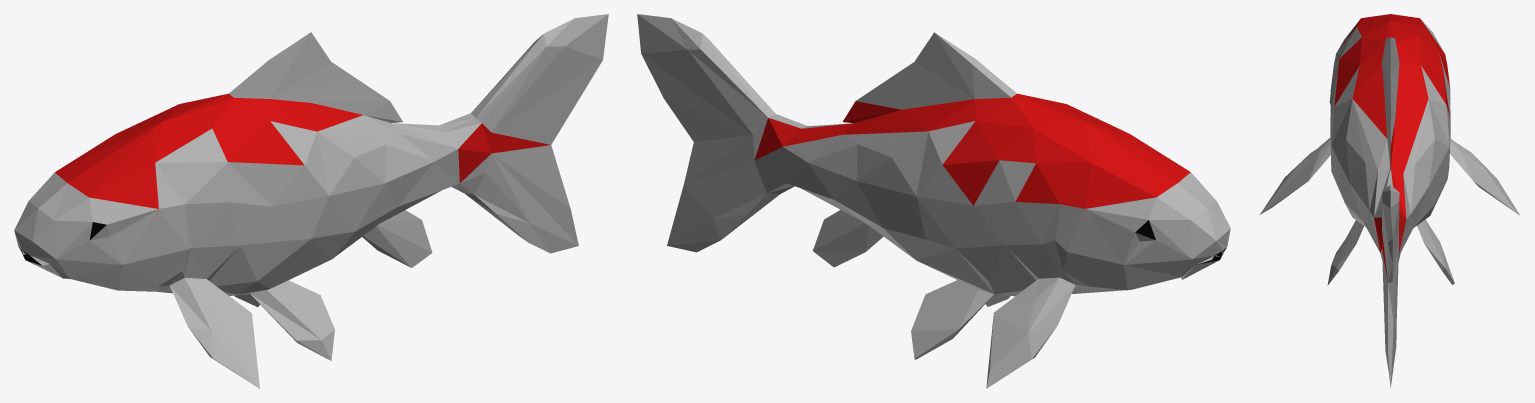
The model's file is CarpaKoi.fbx.
3 views of the same model, side by side, from view 1: azimuth 30°, elevation 25°; view 2: azimuth 150°, elevation 25°; view 3: azimuth 270°, elevation 25° (orthographic). The views are drawn at different scales.
Parts seen in each view (by area): view 1: d9fa79715b044c40b173a7e34c9d890c; view 2: d9fa79715b044c40b173a7e34c9d890c; view 3: d9fa79715b044c40b173a7e34c9d890c.
Boxes of the visible parts, x1=… form: d9fa79715b044c40b173a7e34c9d890c: x1=14, y1=14, x2=608, y2=388; d9fa79715b044c40b173a7e34c9d890c: x1=637, y1=14, x2=1230, y2=388; d9fa79715b044c40b173a7e34c9d890c: x1=1260, y1=14, x2=1520, y2=387.
Size of the model in its own units: 447 by 217 by 201.
